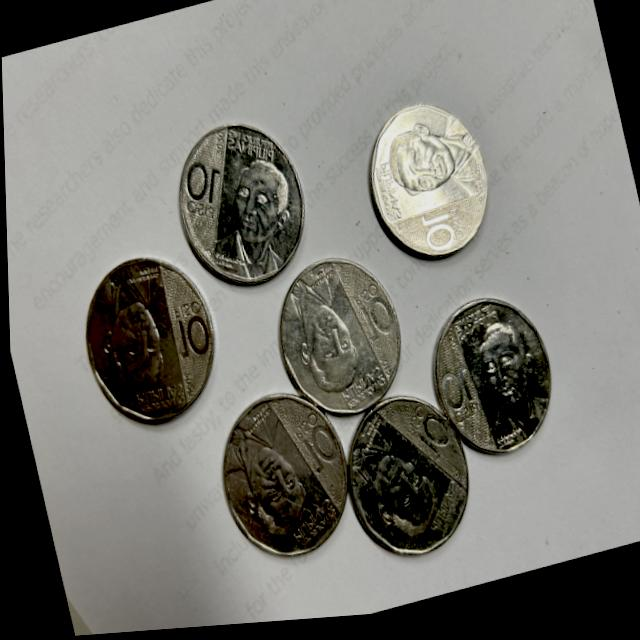10_New_Front: (162, 290, 220, 371), (287, 410, 345, 486), (182, 150, 234, 227), (399, 407, 456, 474), (434, 370, 489, 437), (408, 206, 470, 264), (347, 290, 397, 352)
